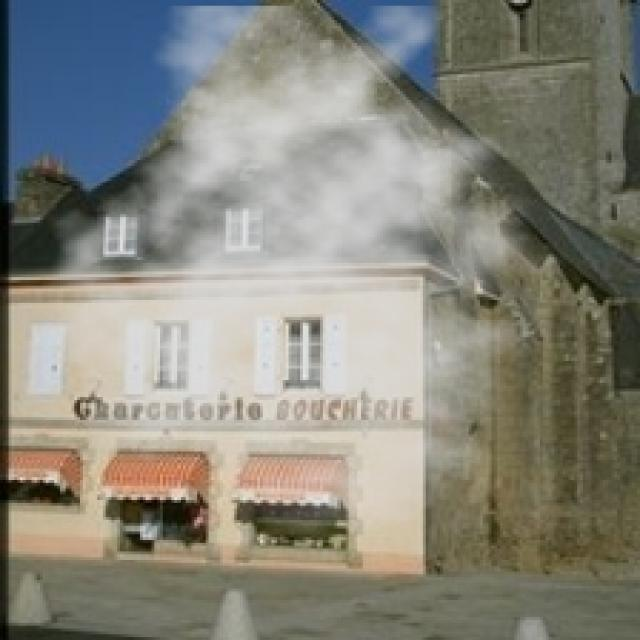Smoke: (26, 5, 594, 538)
